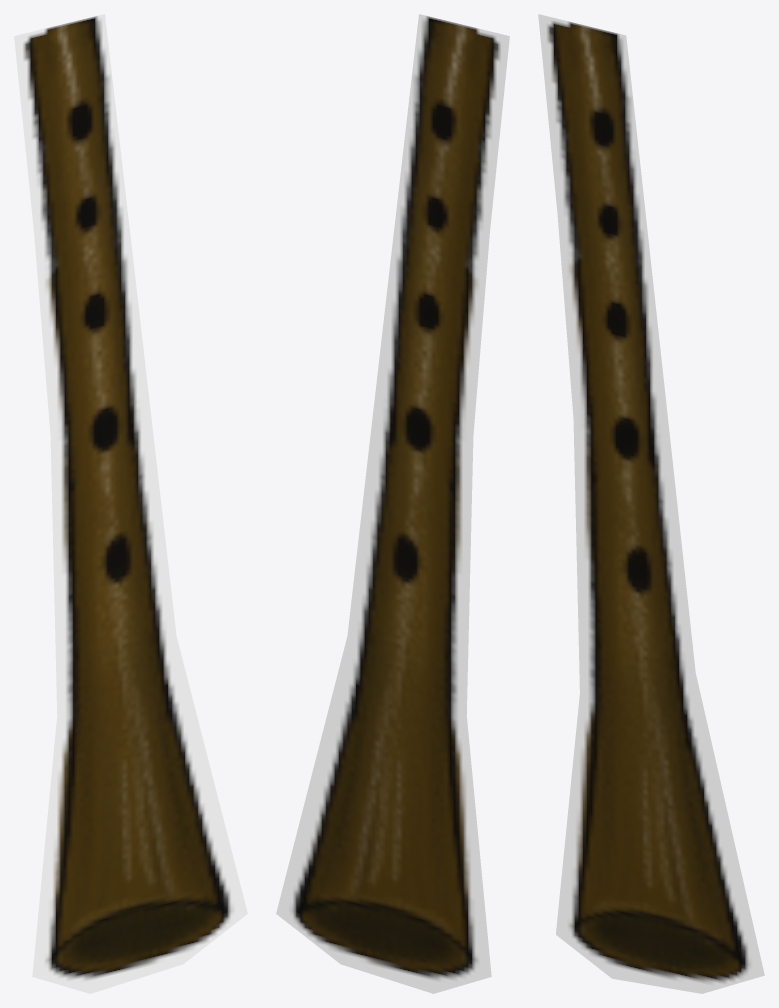
3 views of the same model, side by side, from view 1: azimuth 30°, elevation 25°; view 2: azimuth 150°, elevation 25°; view 3: azimuth 330°, elevation 25° (orthographic). The views are drawn at different scales.
Parts seen in each view (by area): view 1: Plane; view 2: Plane; view 3: Plane.
Boxes of the visible parts, x1,y1,x2,y2 form: Plane: (14,14,247,993); Plane: (276,14,509,993); Plane: (538,14,764,993).
Size of the model in its own units: 0.8211 by 3.28 by 0.
Materials: 1 (1 with a texture image).
